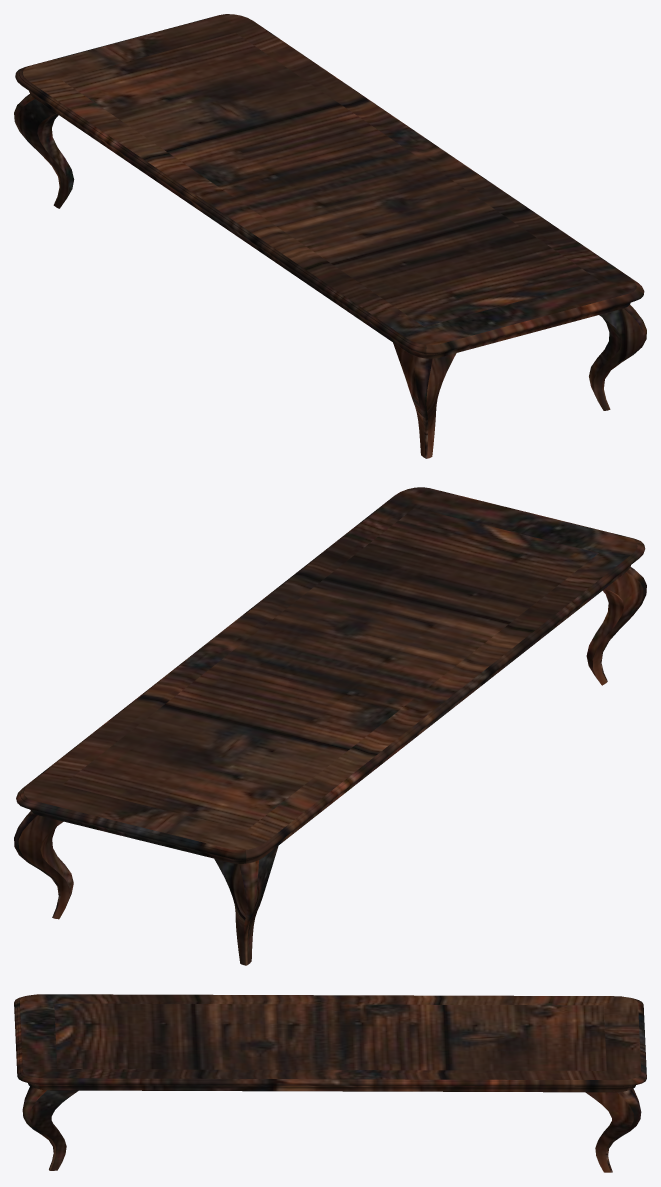
File: mesita.obj
The picture shows the model from 3 angles, top to bottom: view 1: azimuth 30°, elevation 25°; view 2: azimuth 150°, elevation 25°; view 3: azimuth 270°, elevation 25°; orthographic projection. The views are drawn at different scales.
Parts seen in each view (by area): view 1: Vintage_Furniture_Coffee_Table_OBJ:Vintage_Furniture_Coffee_Tabl; view 2: Vintage_Furniture_Coffee_Table_OBJ:Vintage_Furniture_Coffee_Tabl; view 3: Vintage_Furniture_Coffee_Table_OBJ:Vintage_Furniture_Coffee_Tabl.
Boxes of the visible parts, left/top/right/bottom form: Vintage_Furniture_Coffee_Table_OBJ:Vintage_Furniture_Coffee_Tabl: left=14, top=14, right=646, bottom=458; Vintage_Furniture_Coffee_Table_OBJ:Vintage_Furniture_Coffee_Tabl: left=14, top=487, right=646, bottom=965; Vintage_Furniture_Coffee_Table_OBJ:Vintage_Furniture_Coffee_Tabl: left=14, top=994, right=646, bottom=1172.
Bounding box in the file's own units: 0.9249 × 0.4948 × 2.63.
1 material, 1 textured.
